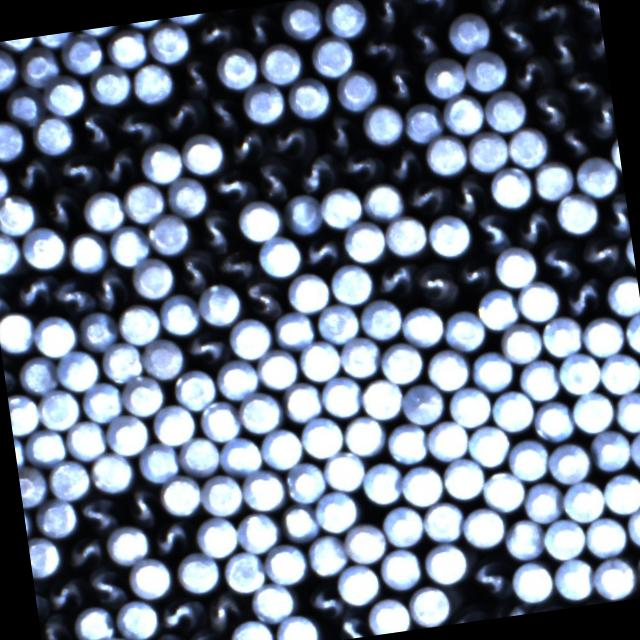tool: (20, 223, 70, 271), (214, 44, 262, 92), (115, 300, 163, 348), (424, 208, 472, 256), (174, 549, 223, 596), (234, 508, 284, 554), (326, 259, 374, 306), (554, 189, 602, 236), (426, 345, 474, 392), (195, 279, 242, 327), (33, 312, 81, 359), (125, 554, 173, 601), (136, 138, 184, 185), (130, 254, 177, 302), (237, 389, 285, 436), (316, 183, 364, 230), (89, 450, 138, 496), (488, 163, 535, 210), (407, 582, 454, 629), (379, 337, 426, 384), (312, 488, 360, 534), (574, 152, 622, 198), (239, 80, 287, 126), (590, 556, 638, 602), (400, 380, 448, 426), (298, 416, 346, 462), (240, 467, 288, 513), (422, 54, 470, 100), (286, 74, 334, 120), (460, 502, 508, 548), (442, 306, 488, 354), (150, 402, 198, 448), (258, 40, 306, 86), (544, 439, 592, 485), (492, 242, 540, 288), (236, 197, 284, 243), (514, 278, 562, 324), (104, 522, 152, 568), (308, 34, 356, 80), (422, 539, 470, 585), (398, 461, 445, 507), (464, 48, 511, 94), (342, 218, 389, 264), (360, 374, 406, 421), (227, 316, 274, 362), (296, 337, 343, 383), (146, 20, 193, 66), (483, 87, 529, 134), (255, 232, 302, 278), (556, 351, 603, 397), (376, 547, 423, 593), (384, 212, 431, 258), (424, 132, 471, 178), (479, 468, 526, 514), (489, 388, 536, 434), (469, 347, 516, 393), (42, 71, 89, 117), (499, 318, 546, 364), (102, 413, 150, 458), (284, 268, 332, 313), (36, 387, 84, 432), (333, 561, 381, 606), (560, 477, 606, 523), (192, 514, 238, 560), (200, 472, 246, 518), (359, 295, 405, 341), (260, 426, 306, 472), (319, 372, 365, 418), (422, 497, 468, 543), (179, 130, 225, 176), (81, 186, 127, 232), (442, 454, 488, 500), (166, 173, 212, 219), (446, 8, 492, 54), (222, 548, 268, 594), (476, 286, 522, 332), (359, 100, 405, 146), (466, 421, 512, 467), (142, 336, 188, 382), (146, 210, 192, 256), (120, 178, 166, 224), (106, 222, 152, 268), (568, 388, 615, 433), (360, 459, 405, 506), (214, 355, 261, 400), (55, 348, 102, 393), (314, 301, 361, 346), (341, 521, 388, 566), (550, 556, 594, 604), (250, 579, 298, 623), (540, 516, 588, 560), (262, 542, 310, 586), (381, 502, 426, 548), (580, 314, 626, 359), (441, 91, 487, 136), (541, 312, 586, 358), (284, 458, 329, 504), (322, 449, 368, 494), (197, 398, 242, 444), (508, 560, 554, 605), (447, 382, 492, 428), (401, 304, 447, 349), (590, 427, 635, 473), (130, 61, 176, 106), (46, 456, 92, 501), (503, 515, 548, 561), (158, 291, 202, 338), (33, 494, 80, 538), (120, 374, 167, 418), (86, 62, 133, 106), (333, 68, 380, 112), (64, 417, 109, 462), (343, 413, 388, 458), (424, 417, 469, 462), (137, 439, 182, 484), (517, 357, 562, 402), (403, 99, 448, 144), (80, 380, 126, 424), (158, 472, 204, 516), (385, 420, 429, 466), (104, 26, 150, 70), (256, 346, 302, 390), (171, 366, 217, 410), (58, 32, 104, 76), (584, 513, 630, 557), (67, 228, 111, 274), (32, 114, 78, 158), (100, 340, 145, 384), (467, 128, 512, 172), (532, 158, 577, 202), (339, 333, 383, 378), (220, 433, 264, 478), (508, 123, 552, 168), (506, 437, 550, 482), (532, 398, 576, 443), (115, 597, 161, 640), (524, 478, 567, 524), (366, 594, 413, 636), (178, 433, 222, 477), (304, 534, 348, 578), (282, 380, 326, 424), (78, 309, 122, 353), (18, 43, 62, 87), (597, 350, 640, 395), (271, 308, 316, 351), (22, 427, 68, 469), (282, 192, 324, 238), (280, 0, 326, 42), (362, 179, 406, 222), (6, 84, 48, 128), (323, 0, 369, 40), (601, 469, 640, 515), (18, 354, 60, 396), (71, 602, 116, 640), (0, 191, 37, 237), (280, 502, 320, 544), (603, 273, 640, 317), (0, 307, 35, 353), (28, 535, 63, 579), (274, 610, 321, 640), (8, 392, 40, 436), (18, 464, 48, 508), (0, 117, 28, 162), (613, 388, 640, 433), (229, 616, 275, 640), (0, 231, 22, 275), (0, 45, 20, 91), (623, 311, 640, 354), (36, 32, 78, 48), (12, 429, 27, 472), (626, 503, 640, 548), (608, 134, 622, 175), (166, 13, 210, 26), (0, 37, 37, 52), (628, 427, 640, 472), (76, 26, 120, 38), (623, 232, 636, 272), (0, 159, 11, 204), (126, 19, 165, 30)
tool_b: (412, 257, 461, 307), (467, 554, 514, 602), (534, 237, 582, 284), (398, 17, 446, 64), (469, 207, 516, 254), (82, 562, 130, 608), (336, 144, 386, 188), (266, 119, 316, 163), (112, 104, 162, 148), (492, 13, 538, 60), (48, 273, 96, 318), (238, 275, 284, 321), (577, 230, 623, 276), (36, 186, 82, 232), (194, 207, 239, 254), (74, 106, 118, 154), (528, 84, 572, 132), (202, 588, 248, 633), (292, 150, 339, 194), (156, 592, 205, 634), (158, 94, 204, 138), (371, 256, 417, 300), (182, 328, 230, 370), (402, 176, 450, 218), (316, 111, 361, 155), (559, 277, 605, 320), (253, 156, 295, 203), (212, 242, 259, 284), (75, 492, 122, 534), (193, 12, 241, 53), (513, 203, 557, 247), (448, 172, 491, 217), (90, 268, 132, 314), (56, 150, 102, 192), (12, 270, 58, 312), (356, 29, 403, 70), (378, 61, 421, 105), (174, 247, 216, 292), (224, 126, 269, 168), (174, 56, 216, 101), (208, 166, 254, 207), (10, 153, 56, 194), (61, 532, 107, 573), (544, 27, 584, 74), (300, 230, 344, 272), (44, 573, 88, 615), (150, 516, 194, 558), (98, 144, 140, 187), (240, 5, 281, 49), (202, 92, 244, 134), (384, 142, 426, 184), (508, 52, 552, 92), (563, 67, 606, 107), (302, 581, 344, 621), (124, 486, 162, 528), (365, 0, 411, 33), (600, 193, 632, 240), (586, 96, 618, 142), (457, 254, 495, 291), (555, 123, 592, 160), (330, 608, 372, 640), (528, 0, 572, 29), (440, 604, 496, 626), (581, 24, 607, 68), (483, 598, 530, 620), (38, 611, 73, 640), (406, 0, 454, 18), (570, 0, 601, 26), (478, 0, 521, 18), (2, 353, 20, 395), (183, 625, 231, 640), (0, 273, 13, 316), (138, 630, 186, 640)
